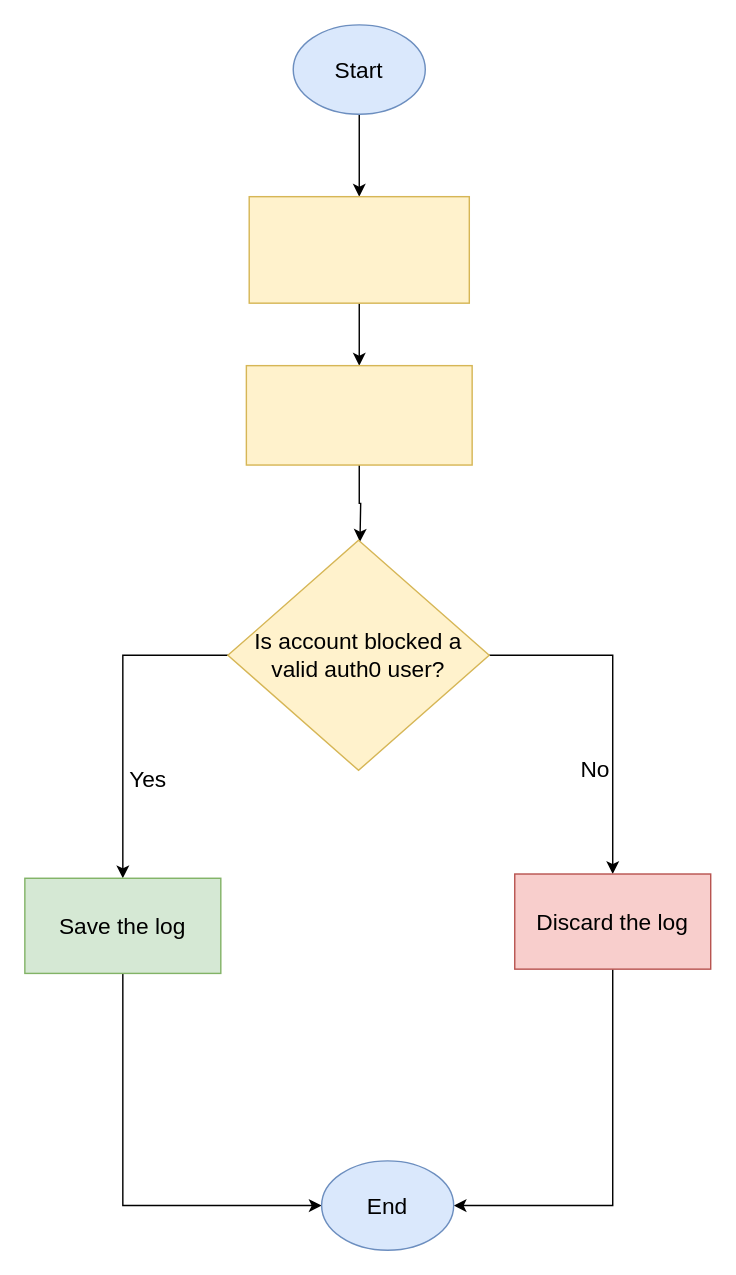
This 736x1275 diagram has some shape labels left out. Here are the shapes that lost their labels. From the top down, the centre of each, then its label:
(358,249): Malicious user attempts gain access by brute-force
(358,414): Auth0 logs an event with account (email) blocked
